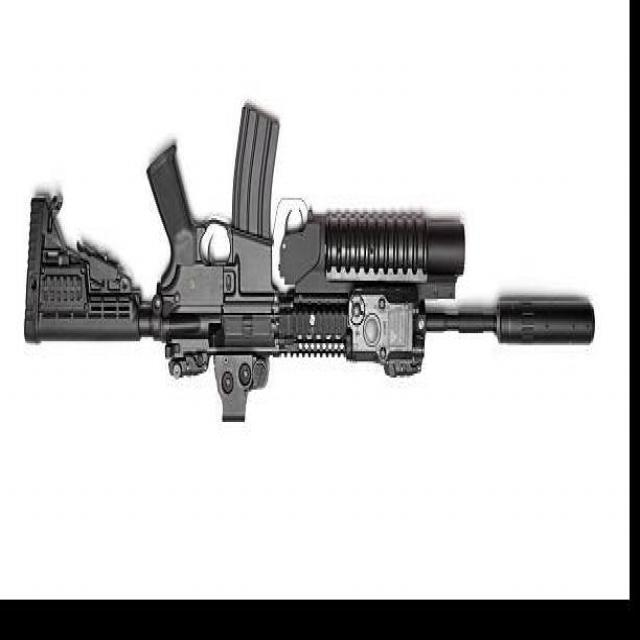weapon: (23, 102, 596, 422)
